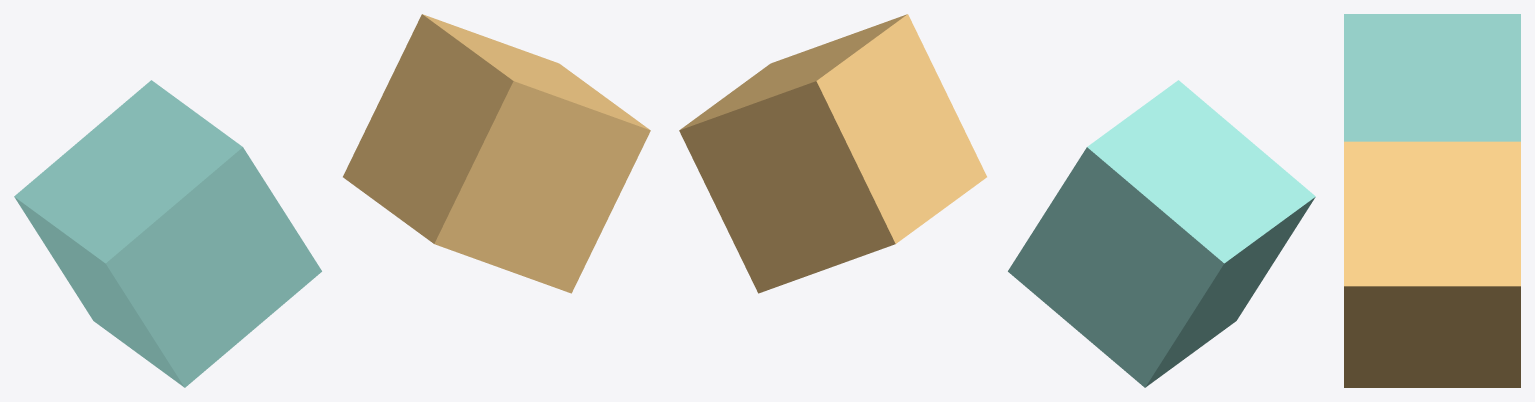
File: hierarchy.gltf
3 views of the same model, side by side, from view 1: azimuth 30°, elevation 25°; view 2: azimuth 150°, elevation 25°; view 3: azimuth 270°, elevation 25° (orthographic). The views are drawn at different scales.
Visible parts, largest first — view 1: Mint child, Gold child; view 2: Mint child, Gold child; view 3: Gold child, Mint child.
Part boxes in pixels (bbox=[...]): Mint child: bbox=[14, 80, 321, 387]; Gold child: bbox=[343, 14, 650, 293]; Mint child: bbox=[1008, 80, 1315, 387]; Gold child: bbox=[679, 14, 986, 293]; Gold child: bbox=[1344, 141, 1520, 387]; Mint child: bbox=[1344, 14, 1520, 141].
Bounding box in the file's own units: 4.81 × 1.91 × 1.4.
